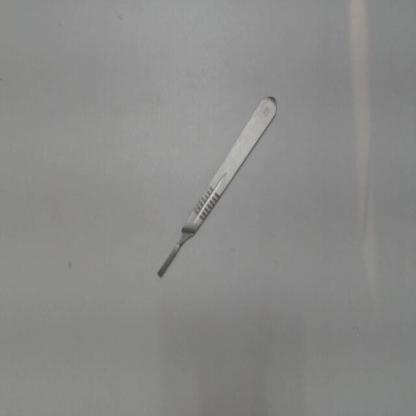No.4 BP Handle: (147, 85, 287, 284)
